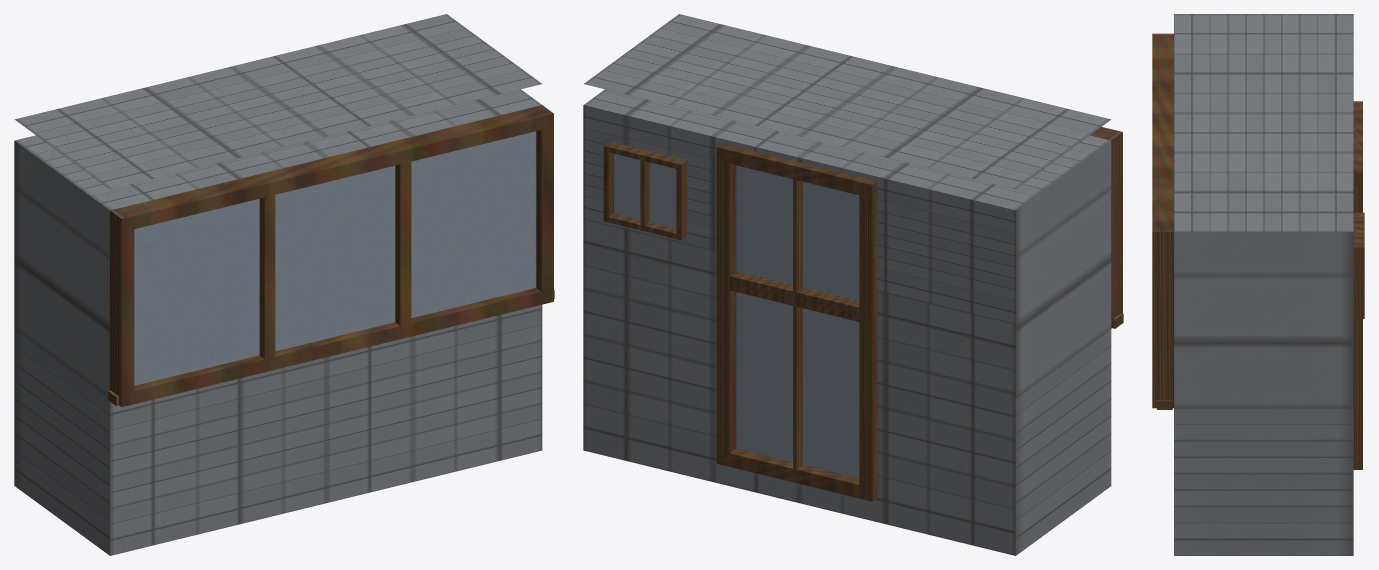
The model's file is balcony.obj.
3 views of the same model, side by side, from view 1: azimuth 30°, elevation 25°; view 2: azimuth 150°, elevation 25°; view 3: azimuth 270°, elevation 25° (orthographic). The views are drawn at different scales.
Bounding box in the file's own units: 3.04 × 2.43 × 1.36.
